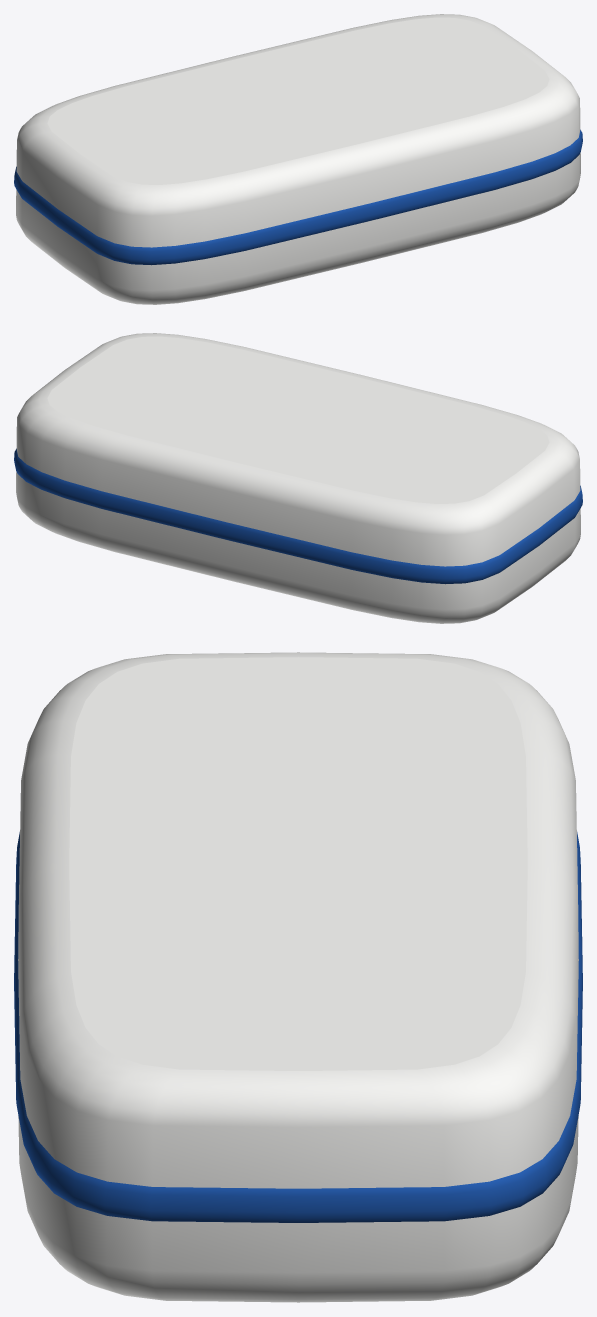
The model's file is lencos_de_papel_bolso.dae.
3 renders of one model, top to bottom at view 1: azimuth 30°, elevation 25°; view 2: azimuth 150°, elevation 25°; view 3: azimuth 270°, elevation 25°, orthographic. The views are drawn at different scales.
Visible parts, largest first — view 1: Lencos de papel - bolso (×2); view 2: Lencos de papel - bolso (×2); view 3: Lencos de papel - bolso (×2).
Boxes of the visible parts, x1,y1,x2,y2 form: Lencos de papel - bolso (×2): [14, 14, 582, 304]; Lencos de papel - bolso (×2): [14, 333, 582, 623]; Lencos de papel - bolso (×2): [14, 652, 582, 1302].
Bounding box in the file's own units: 105 × 54.6 × 24.
